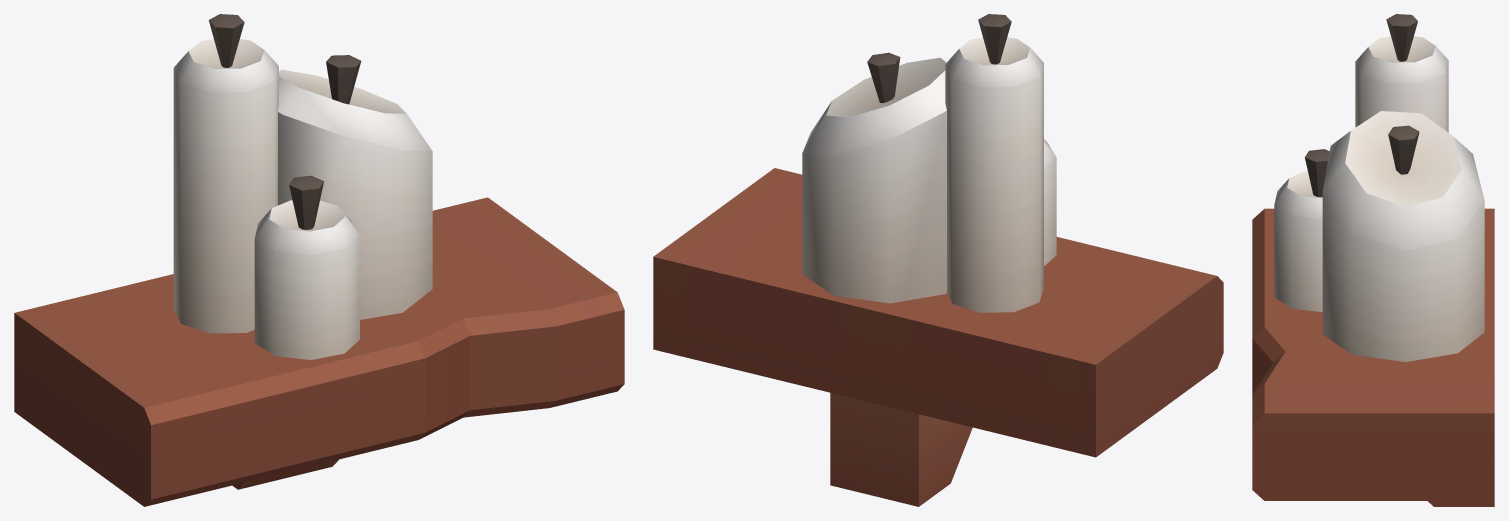
Rendered from shelf_small_candles.glb.
3 views of the same model, side by side, from view 1: azimuth 30°, elevation 25°; view 2: azimuth 150°, elevation 25°; view 3: azimuth 270°, elevation 25° (orthographic). The views are drawn at different scales.
Visible parts, largest first — view 1: shelf_small_candles; view 2: shelf_small_candles; view 3: shelf_small_candles.
Part boxes in pixels (x1,y1,x2,y2): shelf_small_candles: (14, 14, 624, 506); shelf_small_candles: (653, 14, 1223, 506); shelf_small_candles: (1252, 14, 1494, 506).
Size of the model in its own units: 1 by 0.9941 by 0.5001.
Materials: 1 (1 with a texture image).
